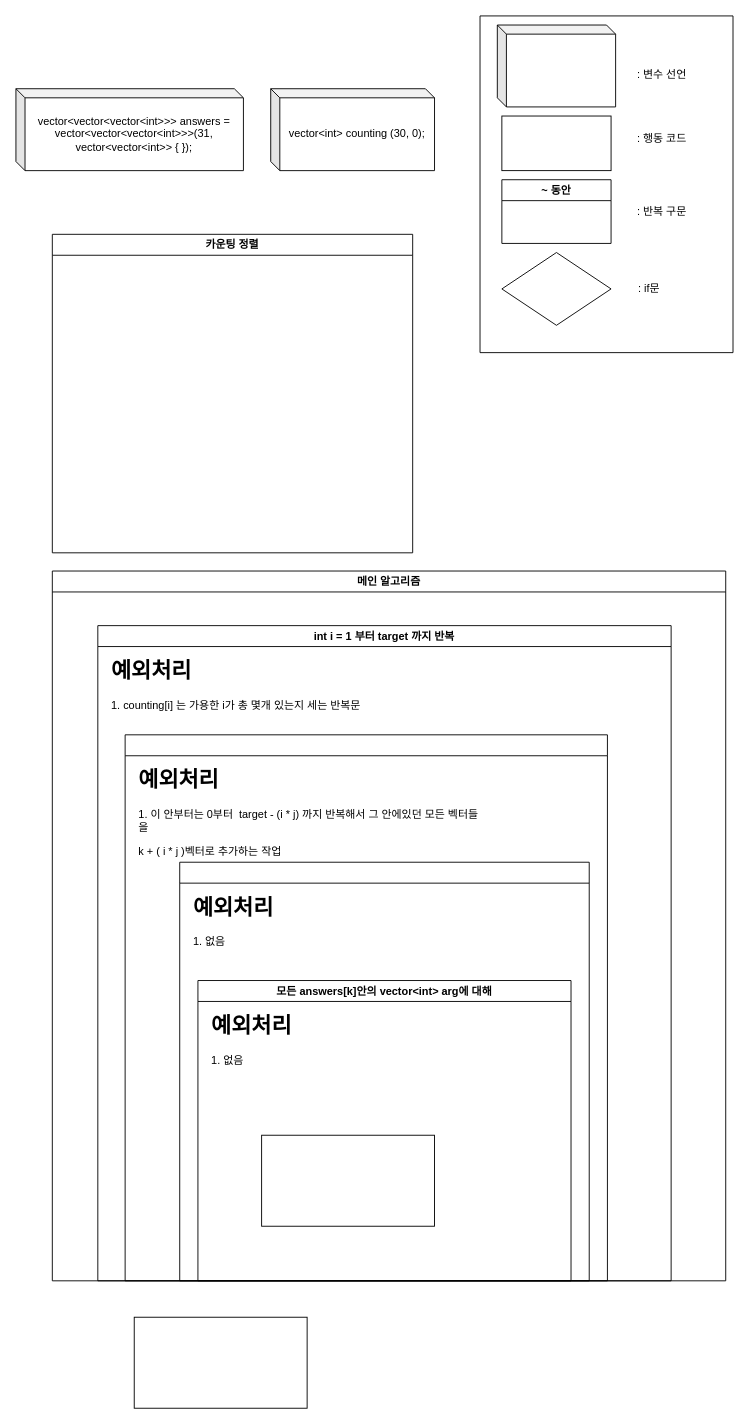
This 749x1424 diagram has some shape labels left out. The shapes that lost their labels are listed below. From the top down, each one's box as (x1, y1, x2, y2) in pixels, then its label:
(124, 734, 607, 1281): int j = 1 부터 counting[i] 까지 반복
(179, 861, 589, 1281): int k = 0 부터 target - (i * j) 까지 반복
(261, 1134, 435, 1226): vector<int> tmp = arg; tmp.push_back() answers[k + (i * j)].push_back()
(133, 1316, 307, 1408): return answers[target]
